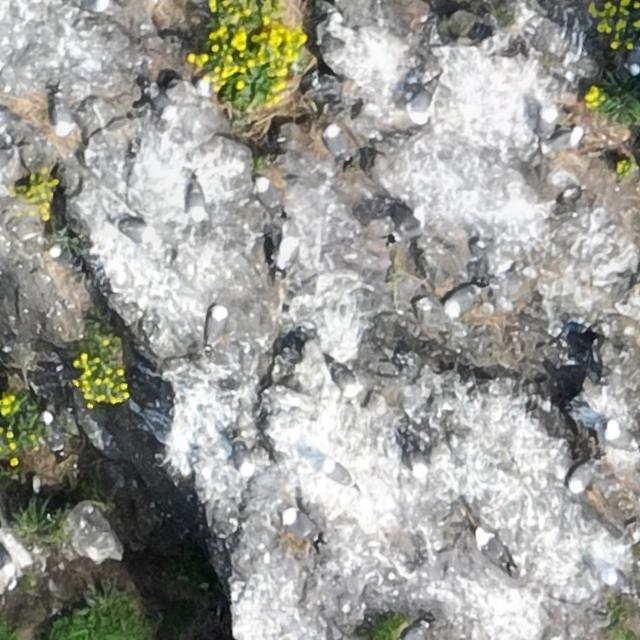umineko: (404, 70, 441, 132), (320, 458, 360, 494), (46, 90, 74, 138), (600, 422, 637, 456), (566, 463, 599, 495), (480, 535, 510, 568), (231, 439, 253, 480), (256, 180, 284, 212), (393, 211, 426, 238), (285, 510, 314, 540), (448, 288, 479, 314), (324, 126, 348, 159), (43, 413, 64, 448), (333, 366, 357, 394), (548, 130, 581, 150), (206, 306, 224, 342), (118, 220, 150, 240), (188, 182, 205, 219), (50, 249, 76, 269), (401, 623, 425, 639), (77, 0, 109, 11), (628, 47, 639, 74), (0, 149, 10, 172)
